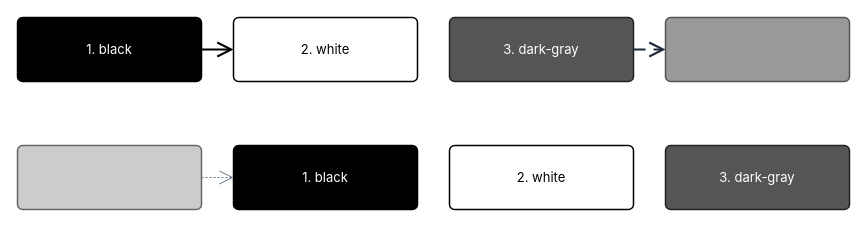
This 868x228 diagram has some shape labels left out. The box of each missing label's shape, as (x1, y1, x2, y2) in pixels:
4. mid-gray: (664, 16, 850, 82)
5. light-gray: (16, 144, 202, 210)
